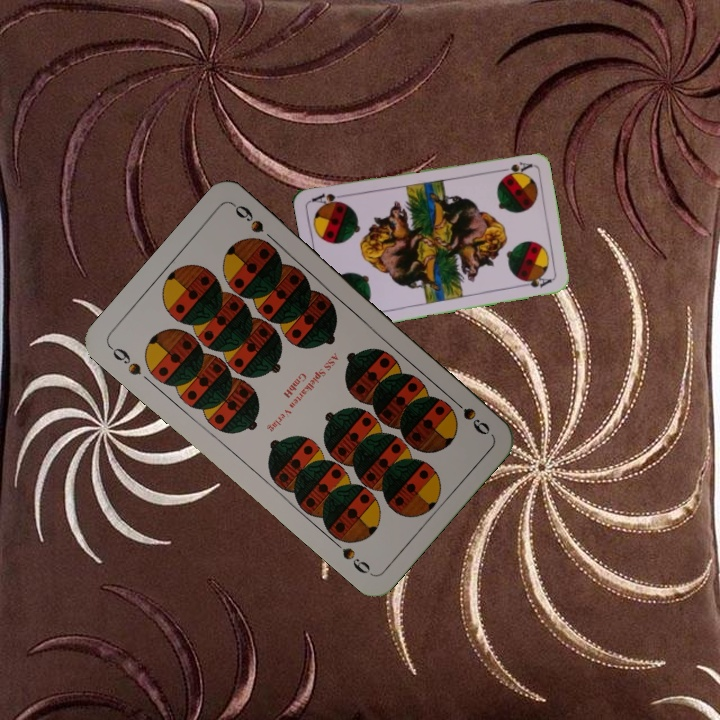S9: (445, 392, 493, 438), (105, 341, 144, 378)
SA: (494, 158, 534, 175)
